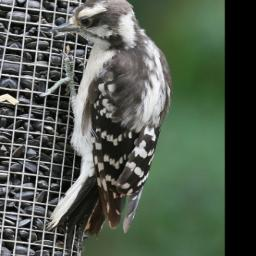Woodpecker: (17, 0, 185, 253)
